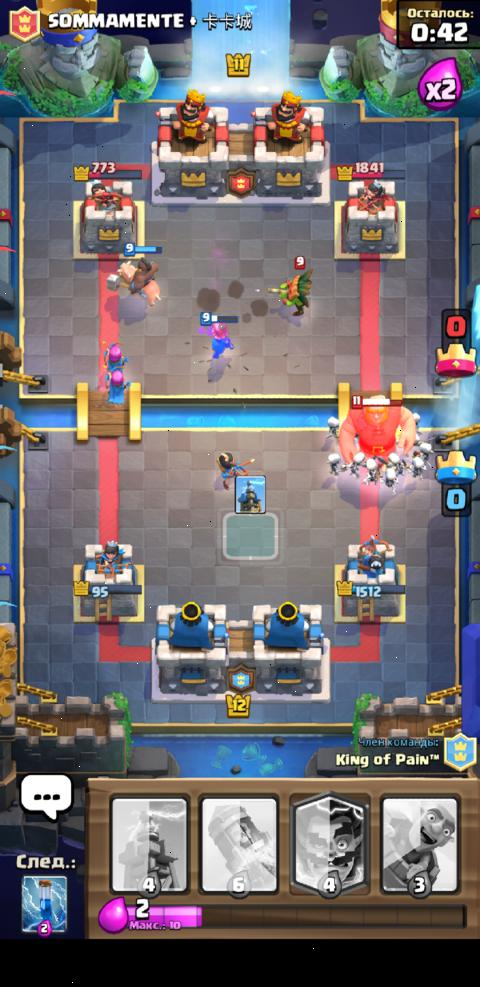EDartGoblin: (267, 269, 311, 316)
EKingTower: (251, 93, 324, 197), (152, 103, 228, 199)
EnemyPrincessTower: (338, 177, 399, 257), (74, 181, 137, 256)
OArcher: (106, 366, 130, 403), (104, 345, 128, 369)
OHogRider: (106, 248, 160, 306)
OLarry: (341, 397, 416, 464), (363, 456, 381, 485), (349, 451, 366, 478), (386, 452, 402, 480), (329, 454, 346, 477), (384, 464, 397, 493), (410, 452, 425, 477), (420, 444, 434, 466), (413, 411, 422, 445), (327, 416, 339, 440)
OPrincess: (217, 452, 246, 489)
OValk: (199, 313, 238, 361)
OwnKingTower: (253, 602, 327, 697), (155, 602, 228, 696)
OwnPrincessTower: (336, 536, 404, 621), (74, 541, 143, 619)
